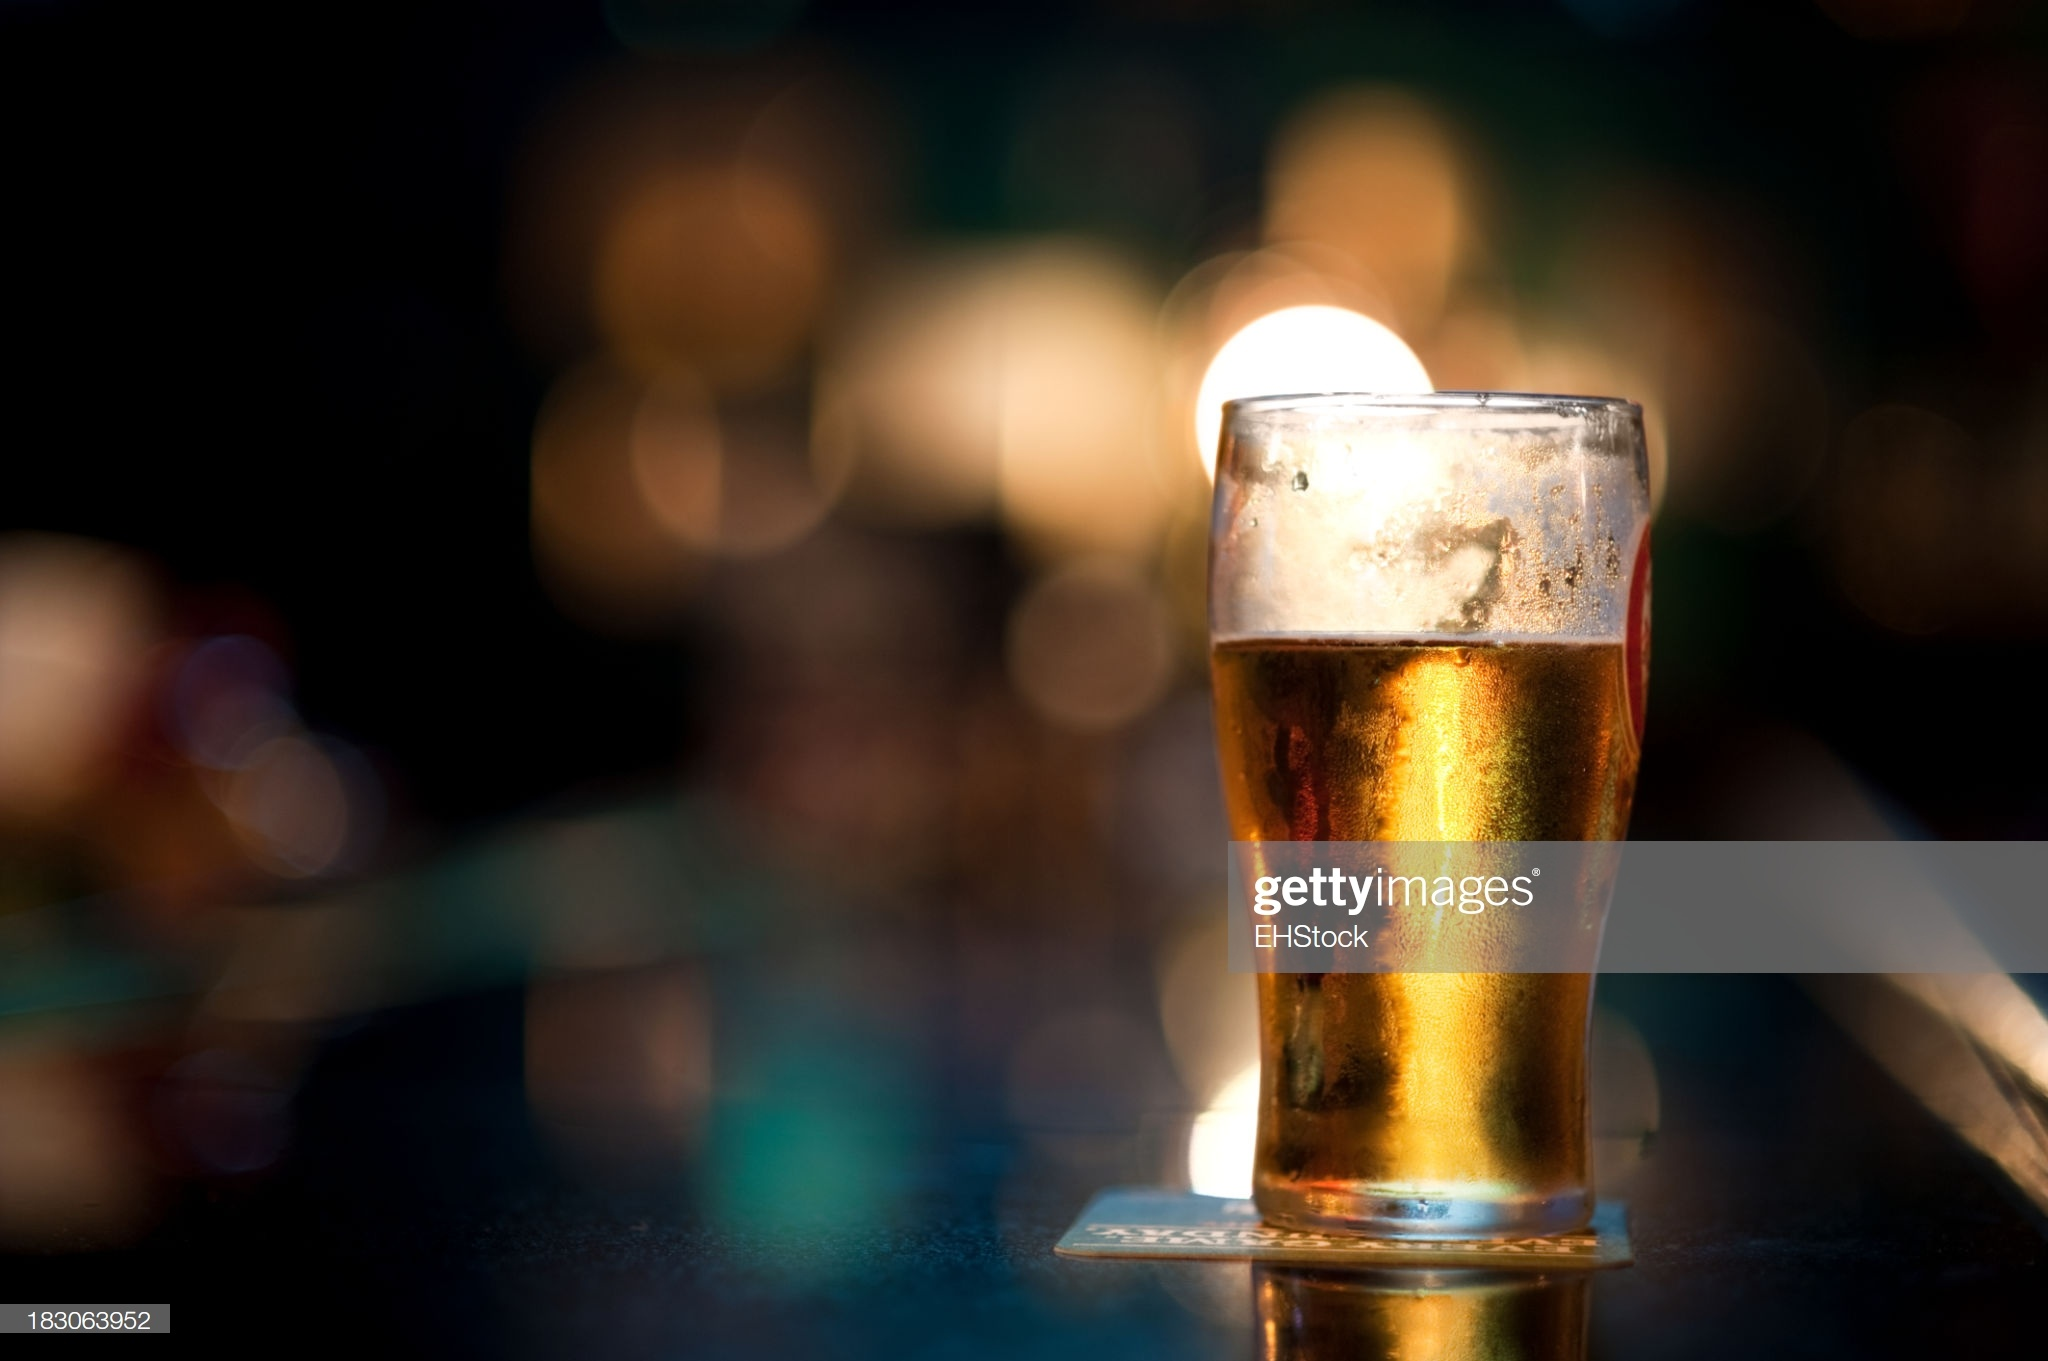glassBeer: (1193, 384, 1682, 1261)
